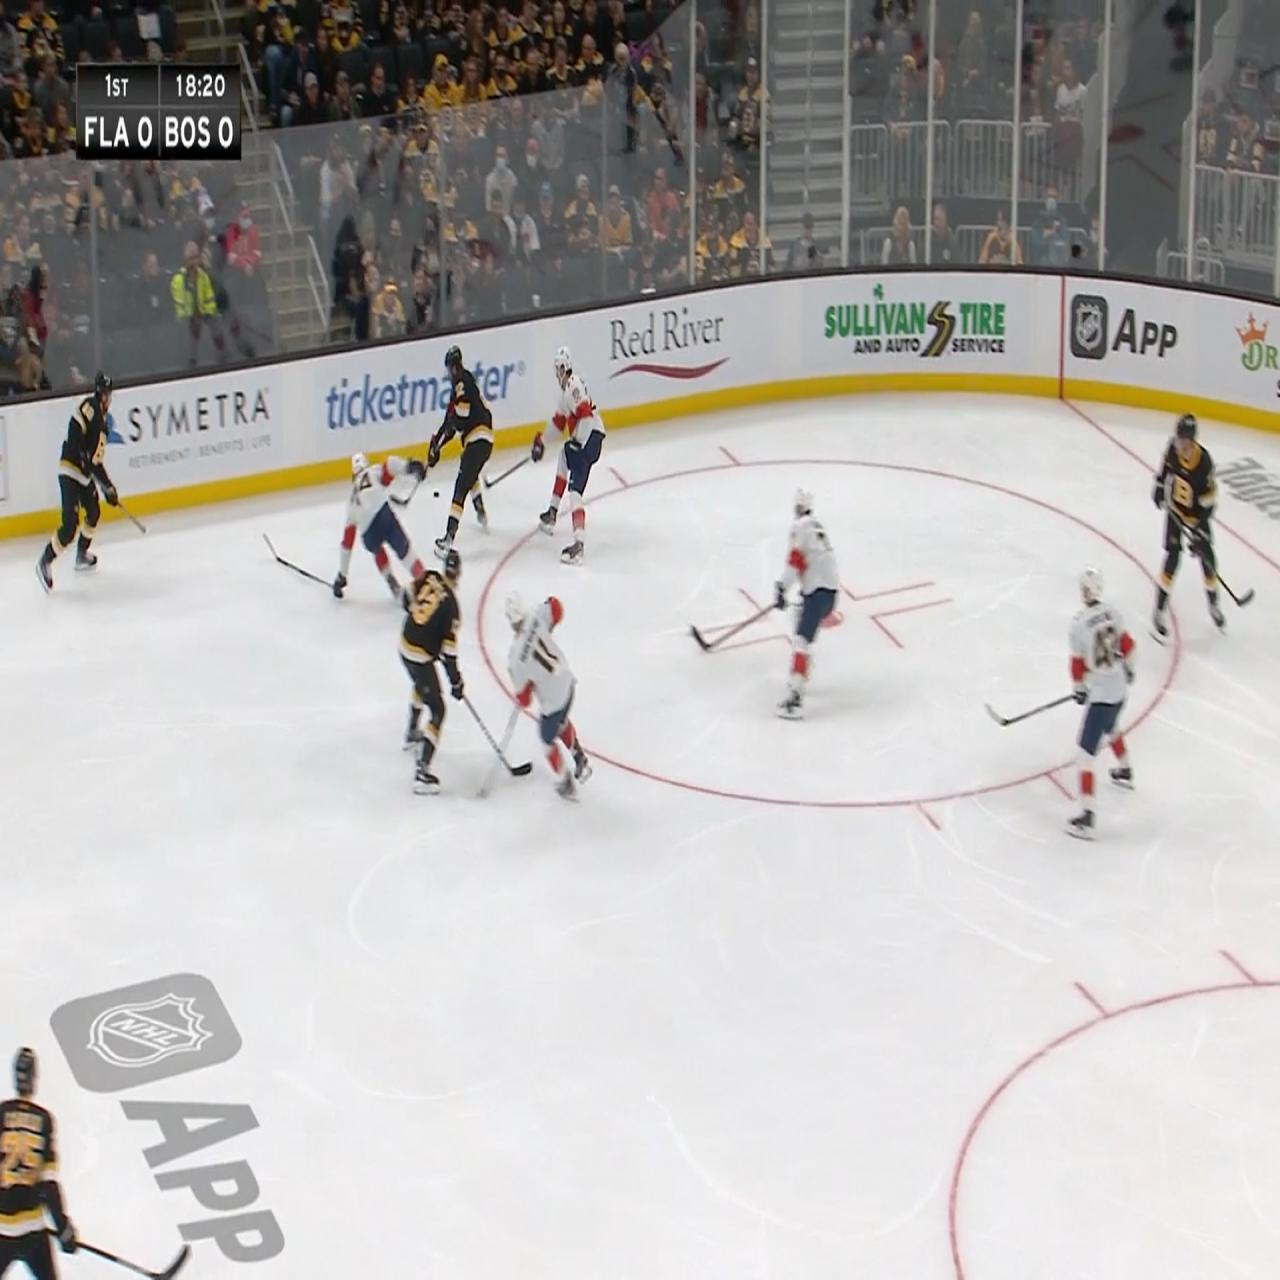Ad: (41, 944, 308, 1274), (819, 280, 1009, 365), (325, 348, 526, 425), (96, 392, 287, 471), (610, 297, 731, 390), (1068, 282, 1184, 377), (1207, 441, 1280, 553), (1233, 304, 1279, 400)
